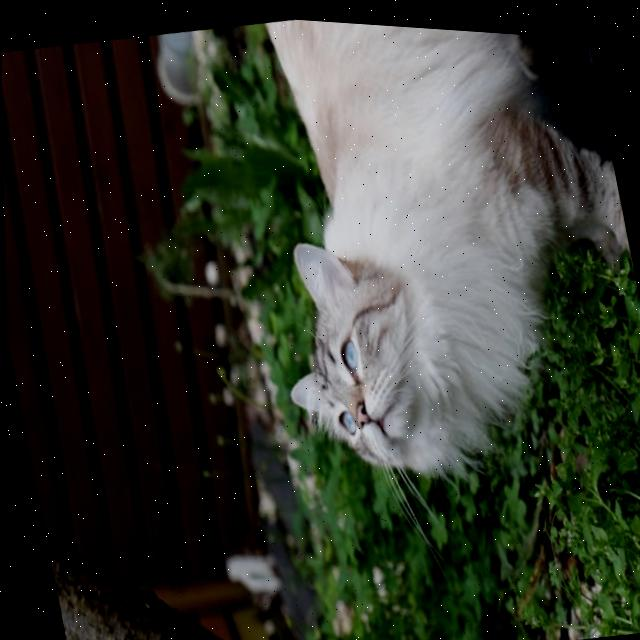Neva Masquerade: (212, 11, 640, 510)
